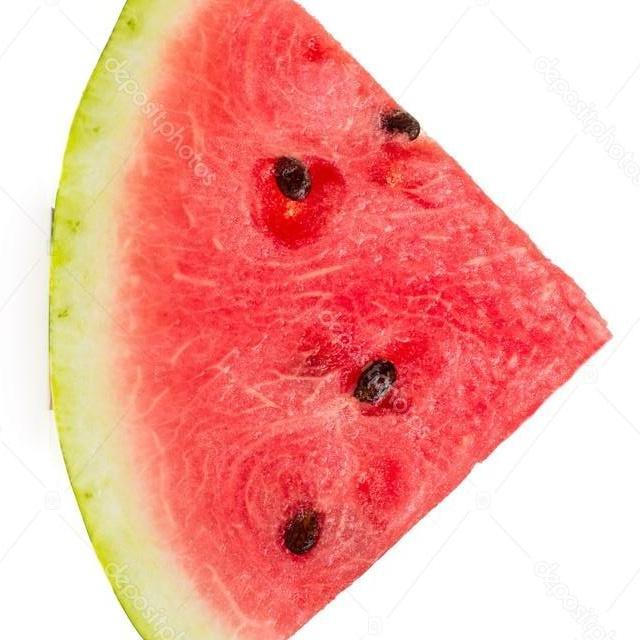watermelon: (66, 0, 564, 640)
